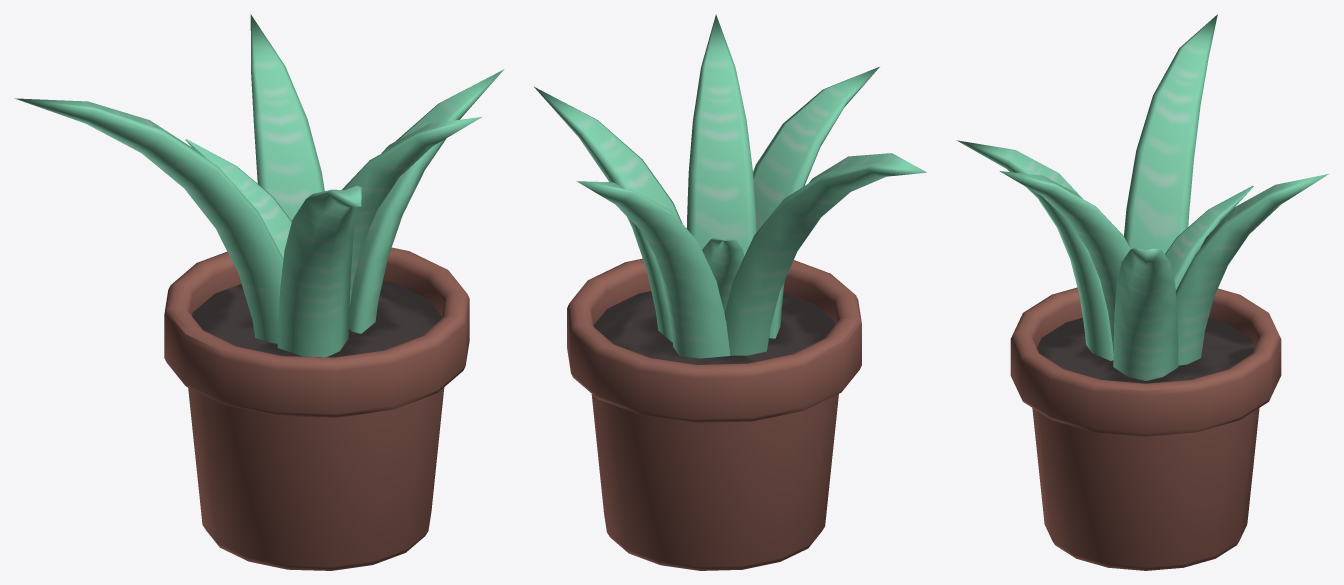
Rendered from plant_1.fbx.
3 views of the same model, side by side, from view 1: azimuth 30°, elevation 25°; view 2: azimuth 150°, elevation 25°; view 3: azimuth 270°, elevation 25° (orthographic). The views are drawn at different scales.
Parts seen in each view (by area): view 1: plant_pot_1, plant_1; view 2: plant_pot_1, plant_1; view 3: plant_pot_1, plant_1.
Part boxes in pixels (left/top/right/bottom): plant_pot_1: left=164, top=247, right=469, bottom=570; plant_1: left=14, top=14, right=504, bottom=357; plant_pot_1: left=567, top=258, right=861, bottom=570; plant_1: left=534, top=14, right=926, bottom=358; plant_pot_1: left=1010, top=287, right=1281, bottom=570; plant_1: left=957, top=14, right=1329, bottom=380.
Bounding box in the file's own units: 0.2933 × 0.288 × 0.2406.
